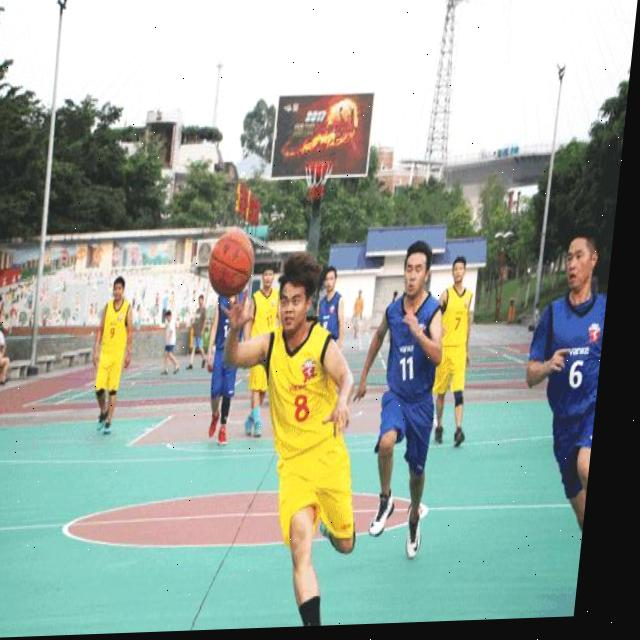basketball: (205, 230, 257, 296)
hoop: (301, 161, 334, 200)
